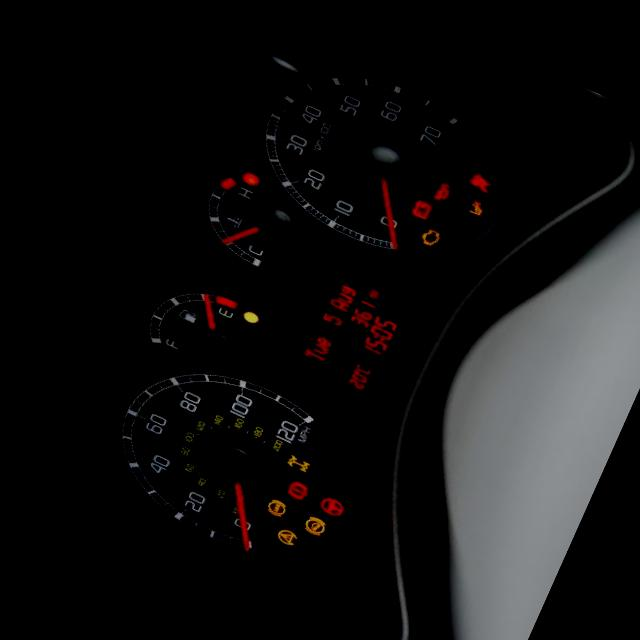kontrolka: (255, 492, 293, 532), (314, 489, 354, 524), (279, 474, 313, 507), (466, 166, 500, 196), (413, 222, 443, 254), (428, 177, 458, 205), (408, 195, 434, 222)
